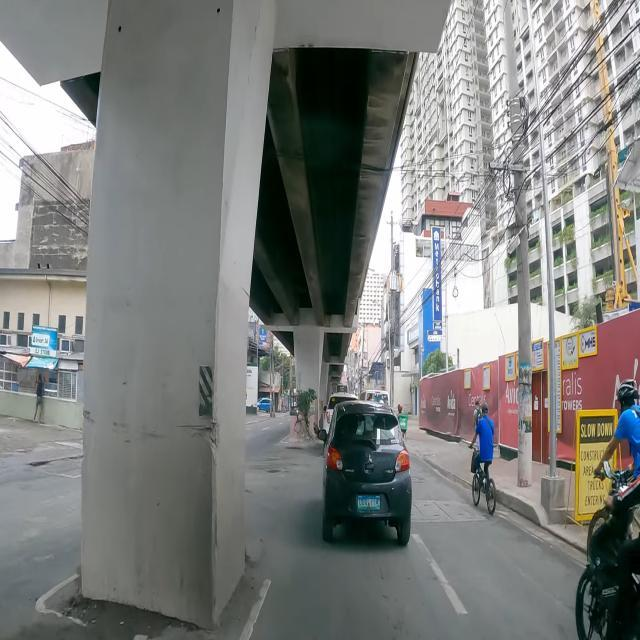bike: (587, 381, 640, 548), (470, 404, 496, 514)
bus: (336, 383, 348, 393)
car: (322, 400, 412, 546), (257, 397, 272, 414)
motorcycle: (575, 470, 640, 640), (397, 404, 408, 442)
